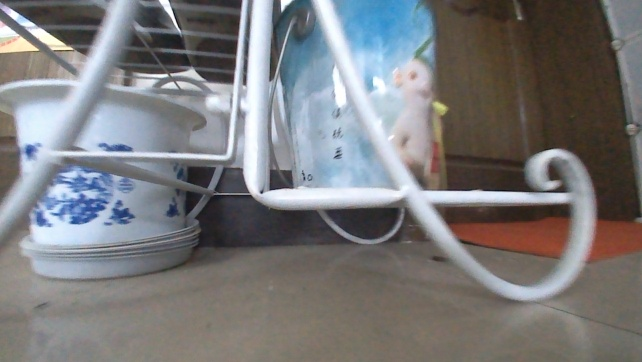blanket: (444, 215, 641, 263)
